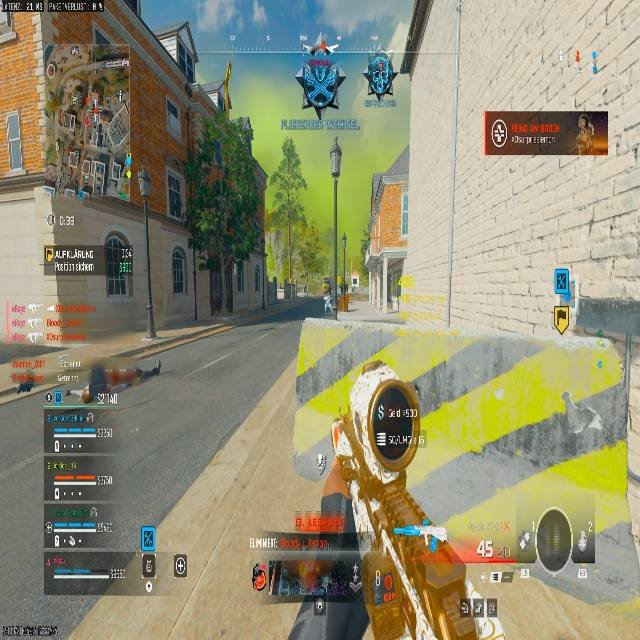head: (358, 379, 420, 459)
player: (294, 46, 346, 119), (320, 276, 340, 315), (351, 277, 358, 292)
